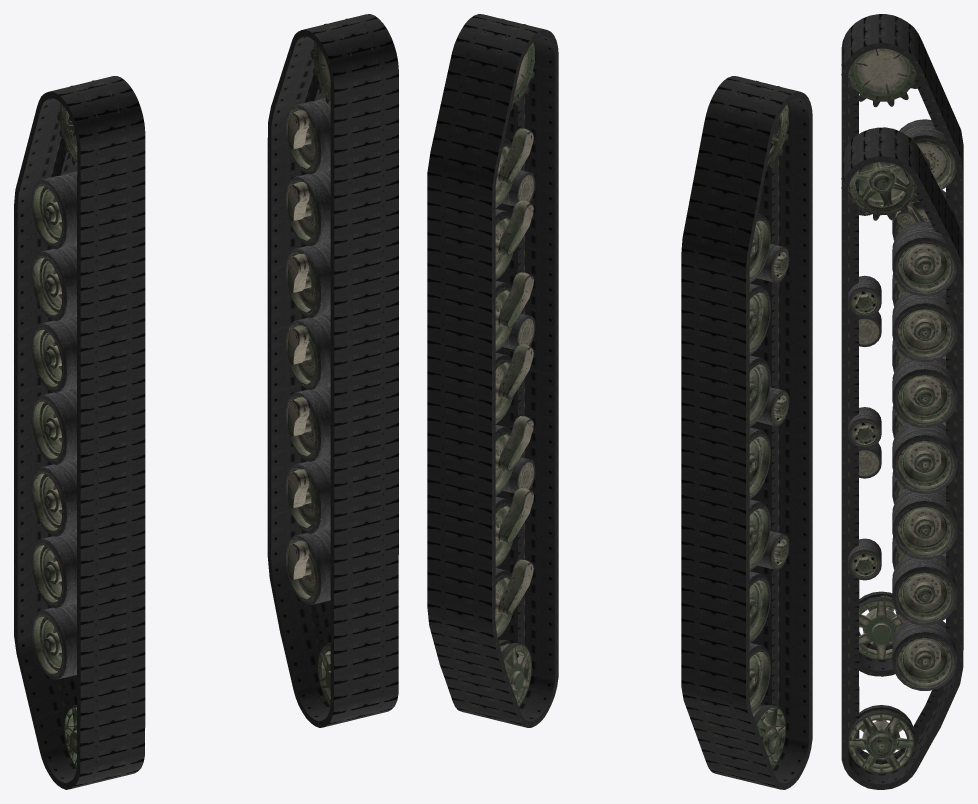
File: Chassis.glb
The picture shows the model from 3 angles, left to right: view 1: azimuth 30°, elevation 25°; view 2: azimuth 150°, elevation 25°; view 3: azimuth 270°, elevation 25°; orthographic projection. The views are drawn at different scales.
Parts seen in each view (by area): view 1: set_1_group_0, set_0_group_0, set_2_group_0, set_3_group_0; view 2: set_0_group_0, set_1_group_0, set_3_group_0, set_2_group_0; view 3: set_3_group_0, set_1_group_0, set_2_group_0, set_0_group_0.
Part boxes in pixels (x1,y1,x2,y2): set_1_group_0: [267, 14, 398, 727]; set_0_group_0: [14, 76, 145, 789]; set_2_group_0: [31, 80, 124, 768]; set_3_group_0: [285, 18, 378, 706]; set_0_group_0: [681, 76, 812, 789]; set_1_group_0: [427, 14, 558, 727]; set_3_group_0: [472, 18, 535, 706]; set_2_group_0: [726, 80, 789, 768]; set_3_group_0: [841, 136, 957, 773]; set_1_group_0: [841, 127, 963, 789]; set_2_group_0: [841, 23, 956, 660]; set_0_group_0: [841, 14, 963, 676].
Bounding box in the file's own units: 3.2 × 6.65 × 1.16.
Materials: 4 (4 with a texture image).
